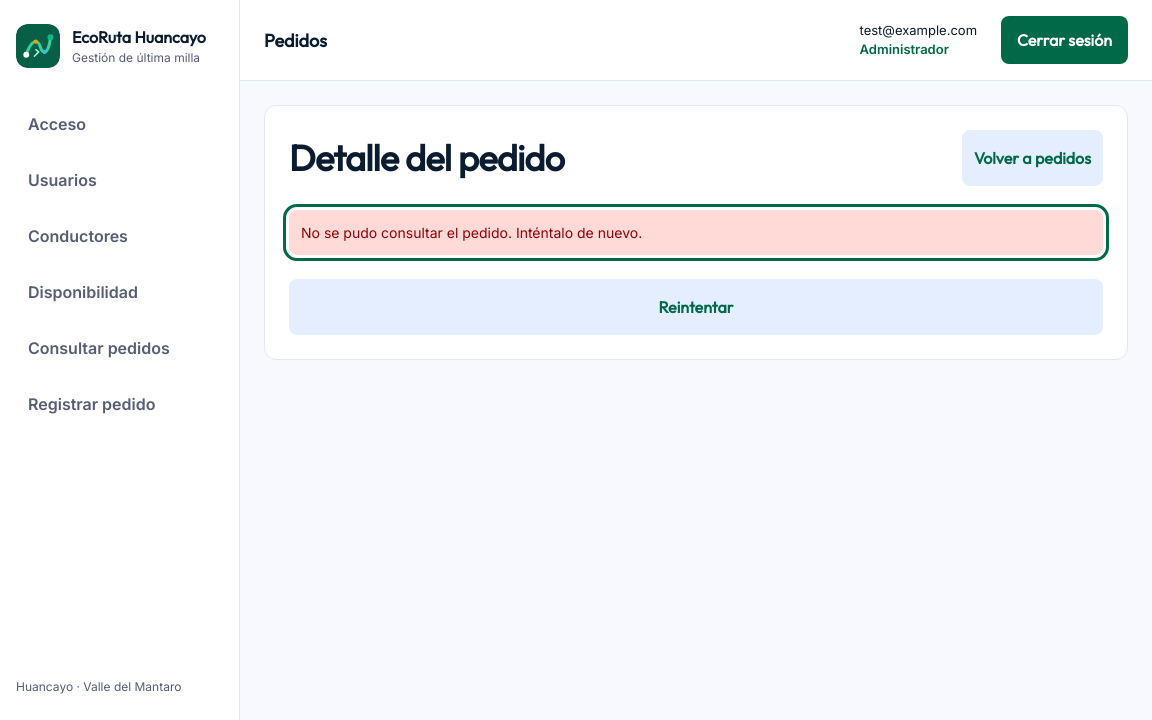
error genérico y reintento /pedidos/10000000-0000-4000-8000-000000000001
This screenshot has width=1152, height=720.
Expected: the message shows "No se pud", [301,224,642,241]
Click the button "Reintentar".
click(696, 307)  # box [289,279,1103,335]
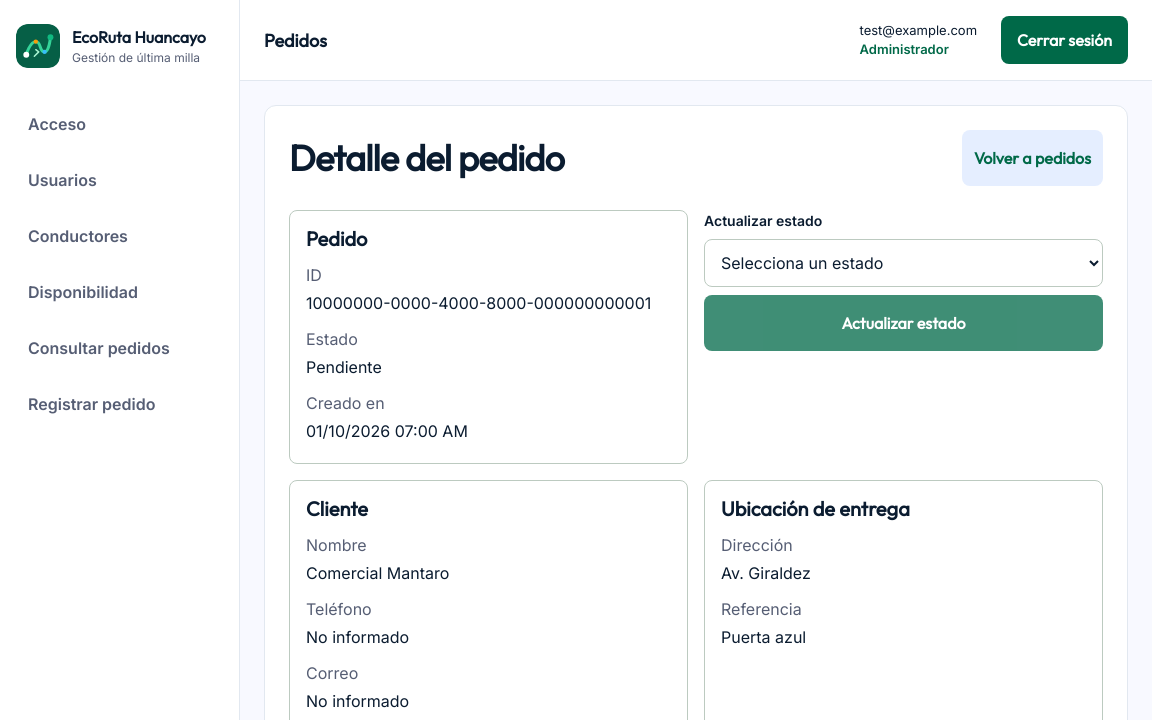
Result: the text "Puerta azul" is shown at [721,627,806,647]
